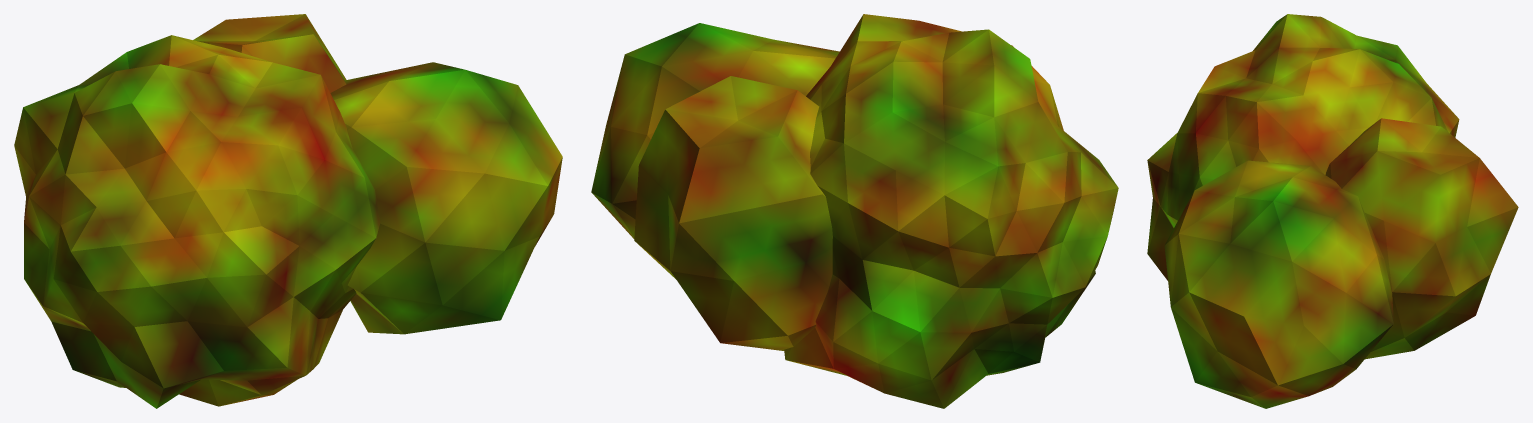
Rendered from 小型金矿_03_豆簇.fbx.
3 renders of one model, left to right at view 1: azimuth 30°, elevation 25°; view 2: azimuth 150°, elevation 25°; view 3: azimuth 270°, elevation 25°, orthographic. The views are drawn at different scales.
Visible parts, largest first — view 1: GoldOre_Small_03; view 2: GoldOre_Small_03; view 3: GoldOre_Small_03.
Part boxes in pixels (x1,y1,x2,y2): GoldOre_Small_03: (14, 14, 562, 408); GoldOre_Small_03: (591, 14, 1118, 408); GoldOre_Small_03: (1147, 14, 1518, 408).
Size of the model in its own units: 0.62 by 0.4 by 0.461.
